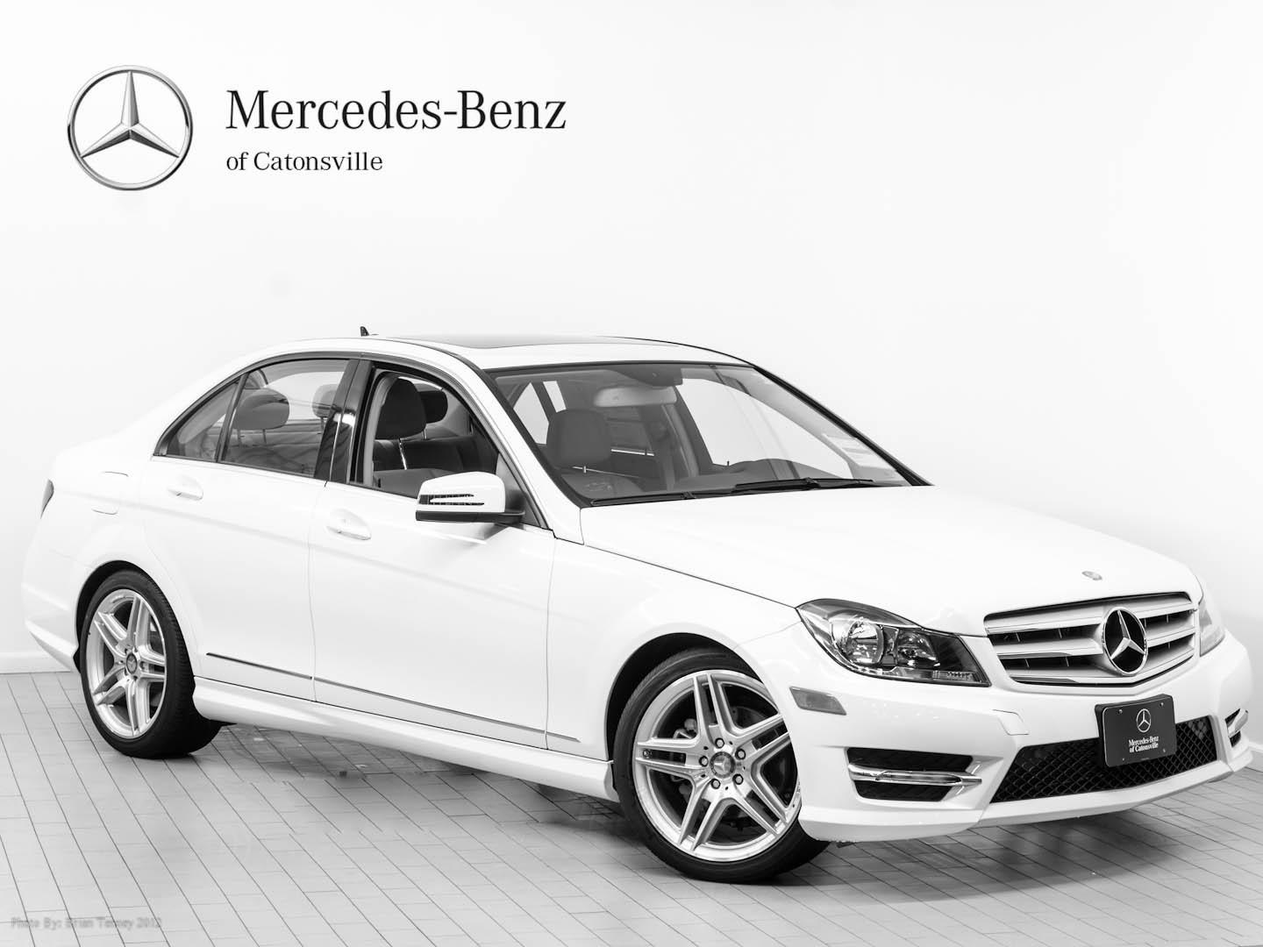car: (11, 297, 1260, 941)
